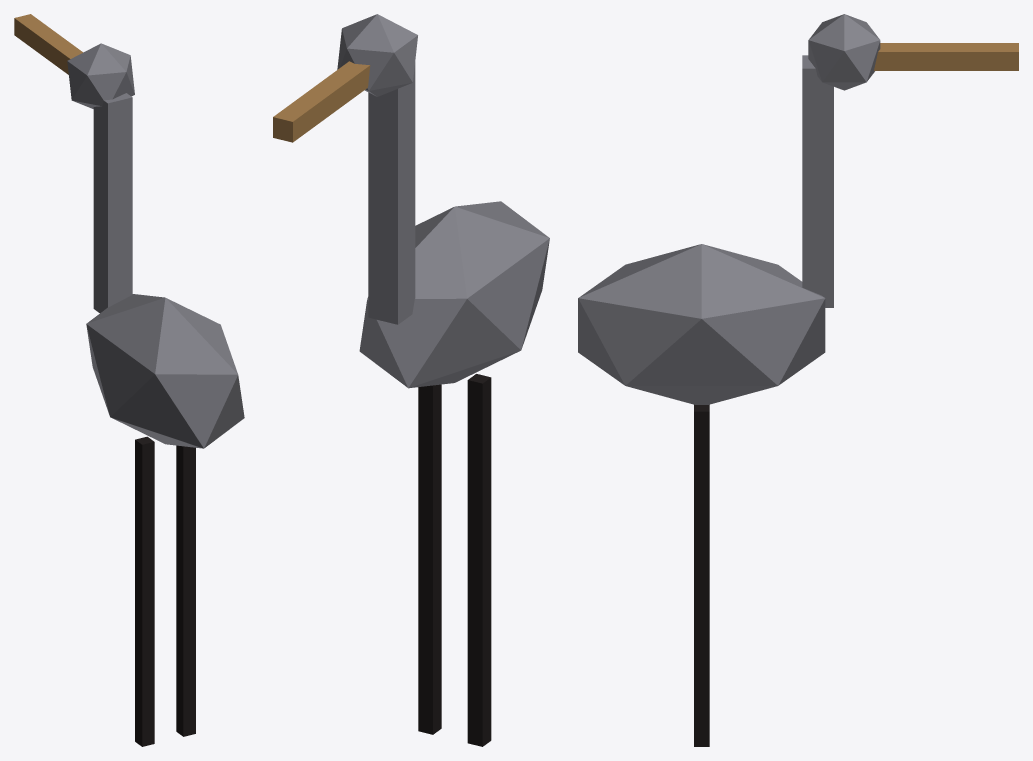
Rendered from pond_heron.obj.
The picture shows the model from 3 angles, left to right: view 1: azimuth 30°, elevation 25°; view 2: azimuth 150°, elevation 25°; view 3: azimuth 270°, elevation 25°; orthographic projection. The views are drawn at different scales.
Parts seen in each view (by area): view 1: part_2, part_3, part_0, part_1, part_4, part_5; view 2: part_2, part_3, part_0, part_1, part_4, part_5; view 3: part_2, part_3, part_1, part_4, part_5.
Part boxes in pixels (x1,y1,x2,y2): part_2: [86, 294, 244, 448]; part_3: [93, 93, 132, 312]; part_0: [135, 436, 154, 746]; part_1: [176, 445, 195, 736]; part_4: [67, 43, 134, 108]; part_5: [14, 14, 82, 74]; part_2: [359, 201, 549, 388]; part_3: [368, 62, 415, 324]; part_0: [467, 374, 491, 746]; part_1: [418, 384, 441, 734]; part_4: [337, 14, 417, 96]; part_5: [273, 61, 370, 142]; part_2: [578, 244, 825, 404]; part_3: [802, 55, 833, 307]; part_1: [694, 405, 709, 746]; part_4: [808, 14, 880, 90]; part_5: [874, 43, 1018, 70].
Size of the model in its own units: 0.2683 by 1.5 by 0.8339.
